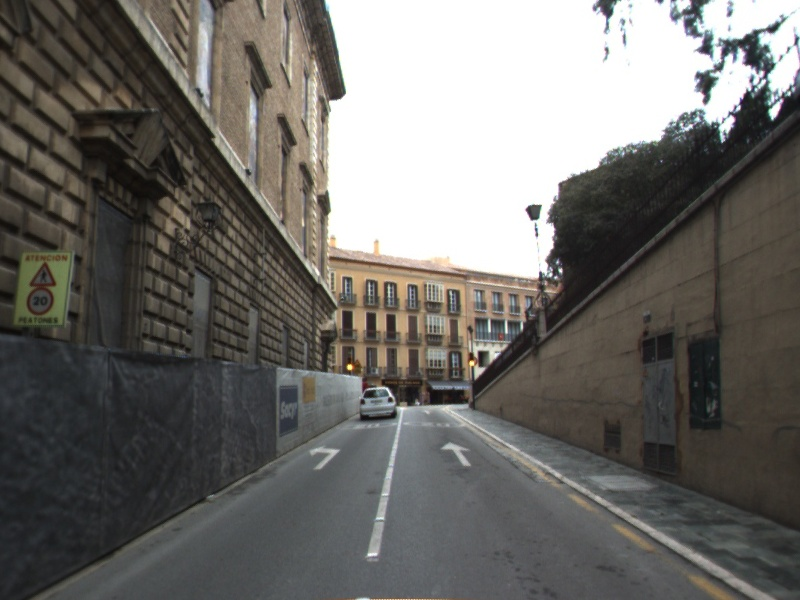LEFT: (307, 443, 342, 471)
STRAIGHT: (438, 439, 474, 468)
